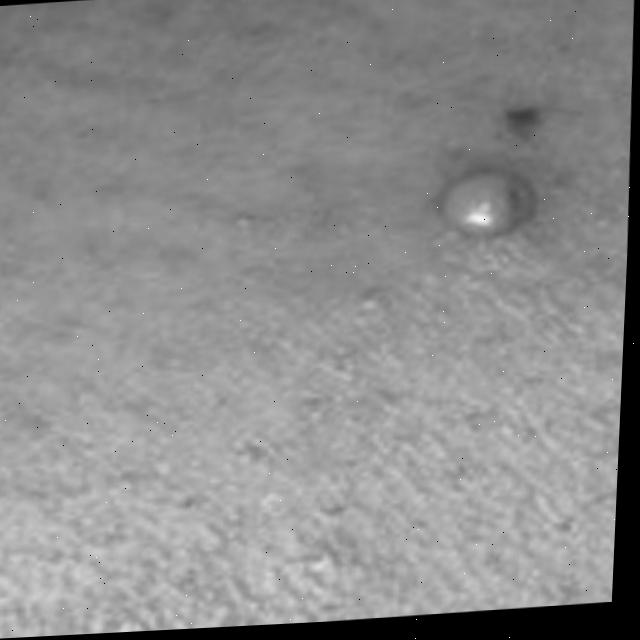Acne: (426, 163, 527, 248)
